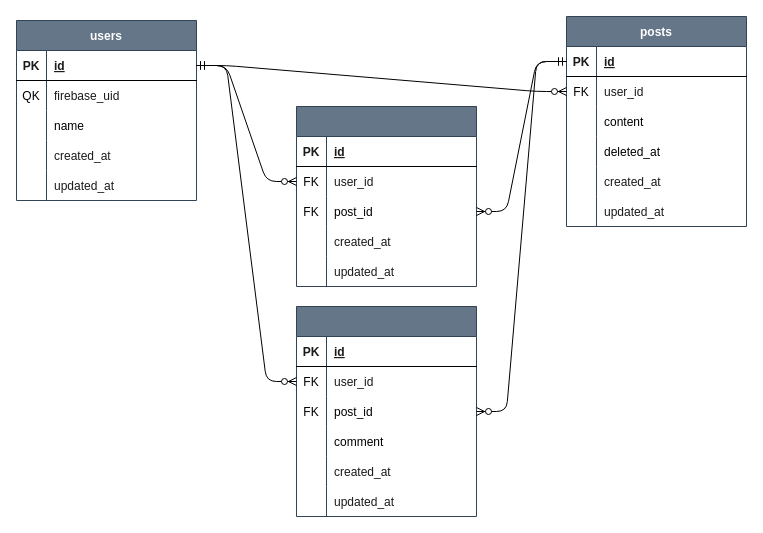
Image size: 763x533. Some labels were removed from this diagram. The shapes that lost their labels are listed below. From the top down, each one's box as (x1, y1, x2, y2) in pixels, then its label:
(296, 106, 476, 286): likes
(296, 306, 476, 516): comments
